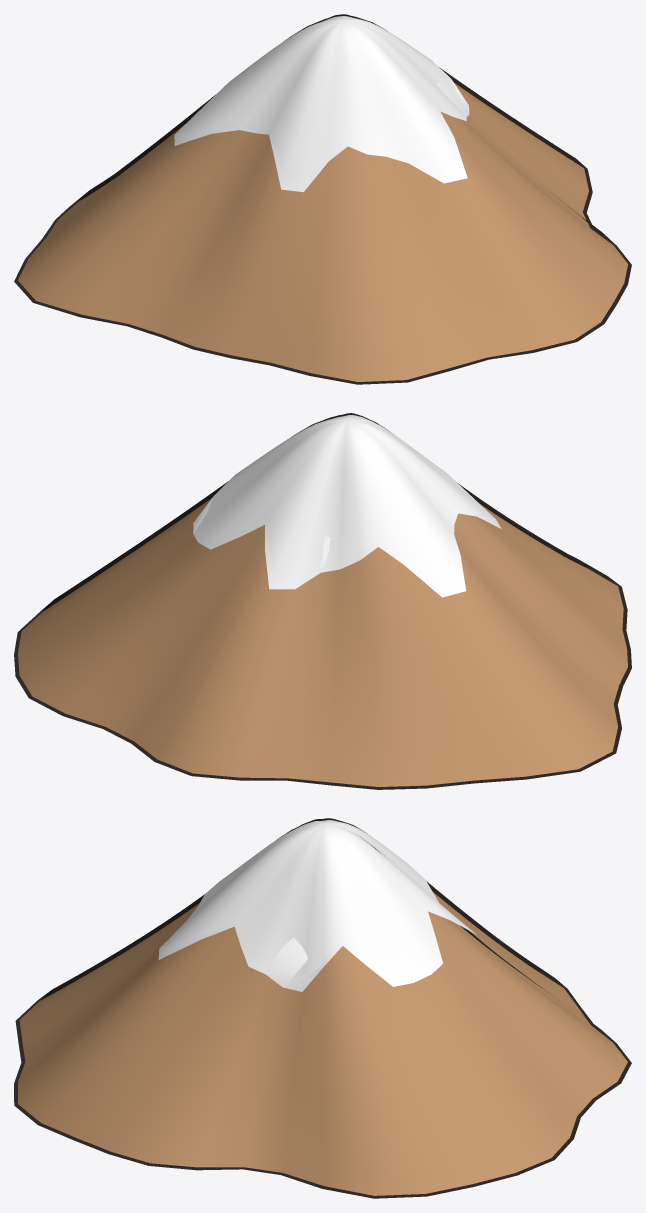
Rendered from BG_Mountain_B.fbx.
3 renders of one model, top to bottom at view 1: azimuth 30°, elevation 25°; view 2: azimuth 150°, elevation 25°; view 3: azimuth 270°, elevation 25°, orthographic. The views are drawn at different scales.
Visible parts, largest first — view 1: BG_Mountain_B_Mountain, BG_Mountain_B_Snow, BG_Mountain_B_Outline; view 2: BG_Mountain_B_Mountain, BG_Mountain_B_Snow, BG_Mountain_B_Outline; view 3: BG_Mountain_B_Mountain, BG_Mountain_B_Snow, BG_Mountain_B_Outline.
Boxes of the visible parts, x1,y1,x2,y2 form: BG_Mountain_B_Mountain: (18,82,627,381); BG_Mountain_B_Snow: (174,16,469,192); BG_Mountain_B_Outline: (14,14,631,384); BG_Mountain_B_Mountain: (18,498,627,786); BG_Mountain_B_Snow: (193,415,501,597); BG_Mountain_B_Outline: (14,413,631,789); BG_Mountain_B_Mountain: (18,892,627,1195); BG_Mountain_B_Snow: (158,820,476,991); BG_Mountain_B_Outline: (14,818,631,1198).
Bounding box in the file's own units: 48.02 × 19.32 × 45.12.
